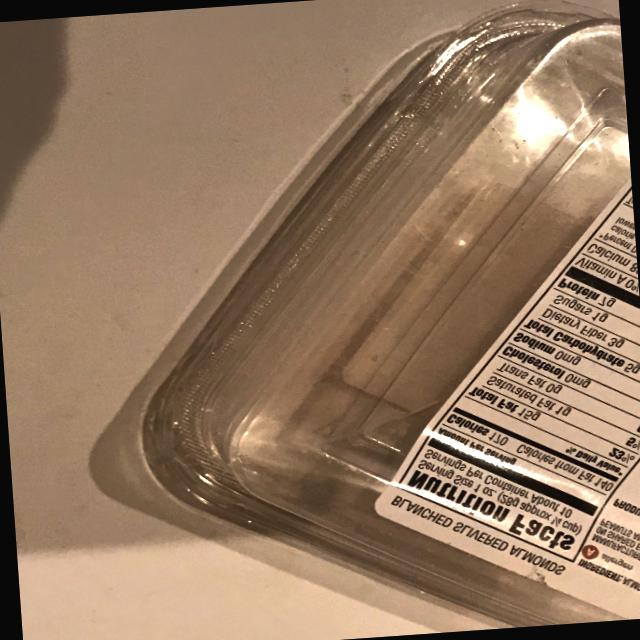Plastic: (85, 0, 640, 628)
